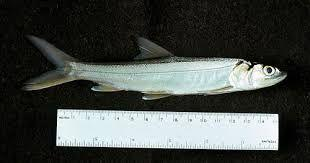Tenpounder: (24, 32, 293, 97)
